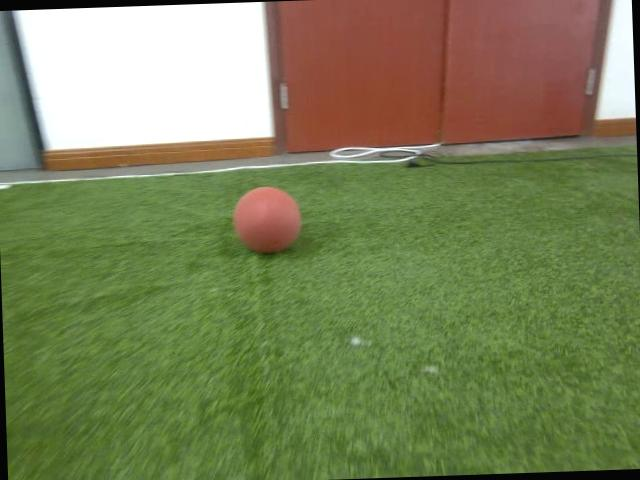red_ball: (232, 186, 302, 253)
